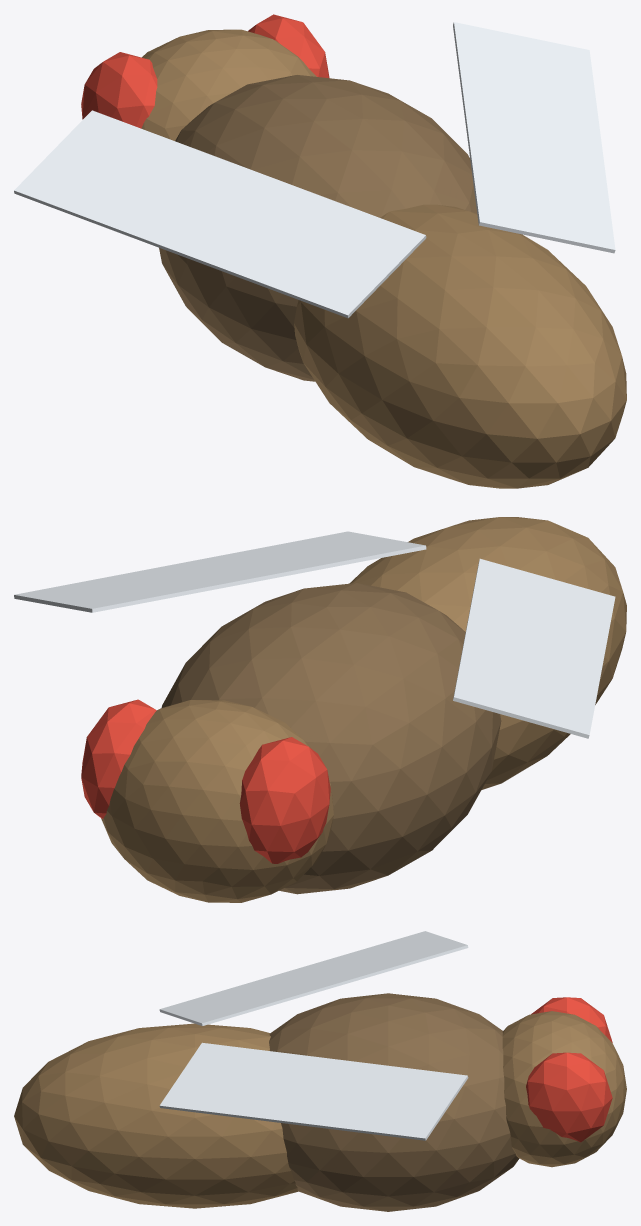
File: fly_agent.glb
3 renders of one model, top to bottom at view 1: azimuth 30°, elevation 25°; view 2: azimuth 150°, elevation 25°; view 3: azimuth 270°, elevation 25°, orthographic. The views are drawn at different scales.
Parts seen in each view (by area): view 1: FlyAgentMesh; view 2: FlyAgentMesh; view 3: FlyAgentMesh.
Part boxes in pixels (x1,y1,x2,y2): FlyAgentMesh: (14,14,626,488); FlyAgentMesh: (14,517,626,902); FlyAgentMesh: (14,931,626,1211).
Size of the model in its own units: 1.65 by 0.72 by 2.06.
